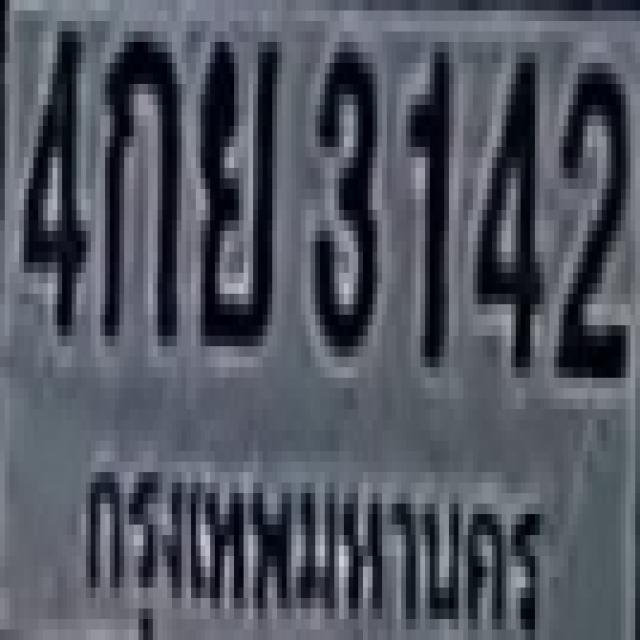-: (196, 31, 277, 336), (100, 21, 177, 336)
1: (406, 36, 449, 352)
2: (554, 52, 626, 368)
3: (310, 31, 372, 346)
4: (473, 42, 535, 367), (19, 11, 81, 326)
BKK: (70, 434, 566, 640)
